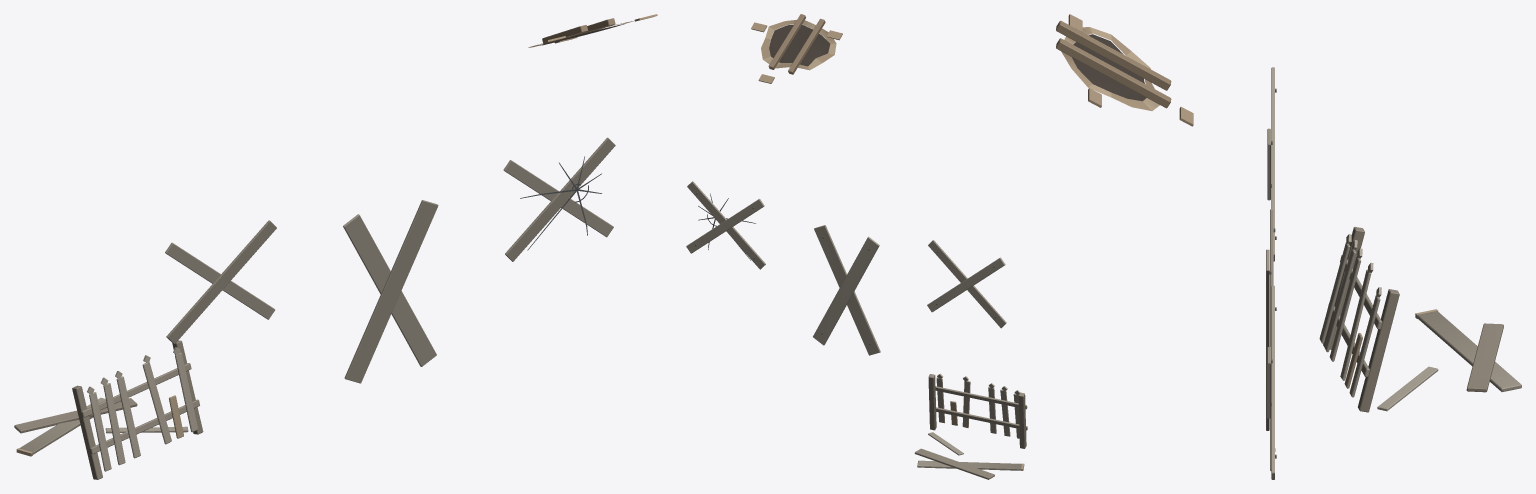
File: house_broken_house.glb
3 views of the same model, side by side, from view 1: azimuth 30°, elevation 25°; view 2: azimuth 150°, elevation 25°; view 3: azimuth 270°, elevation 25° (orthographic). The views are drawn at different scales.
Size of the model in its own units: 6.01 by 4.66 by 3.43.
